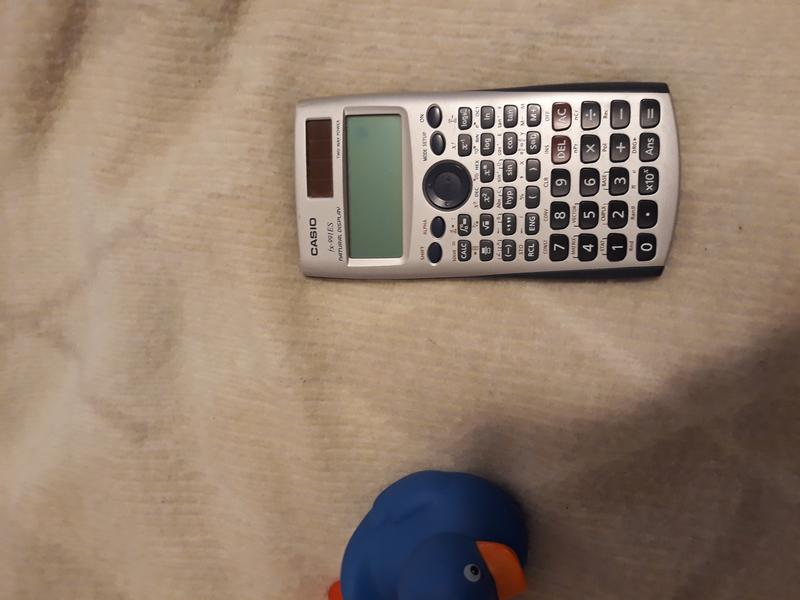CASIO_fx_991ES: (259, 69, 702, 287)
plava_patkica: (295, 462, 554, 593)
